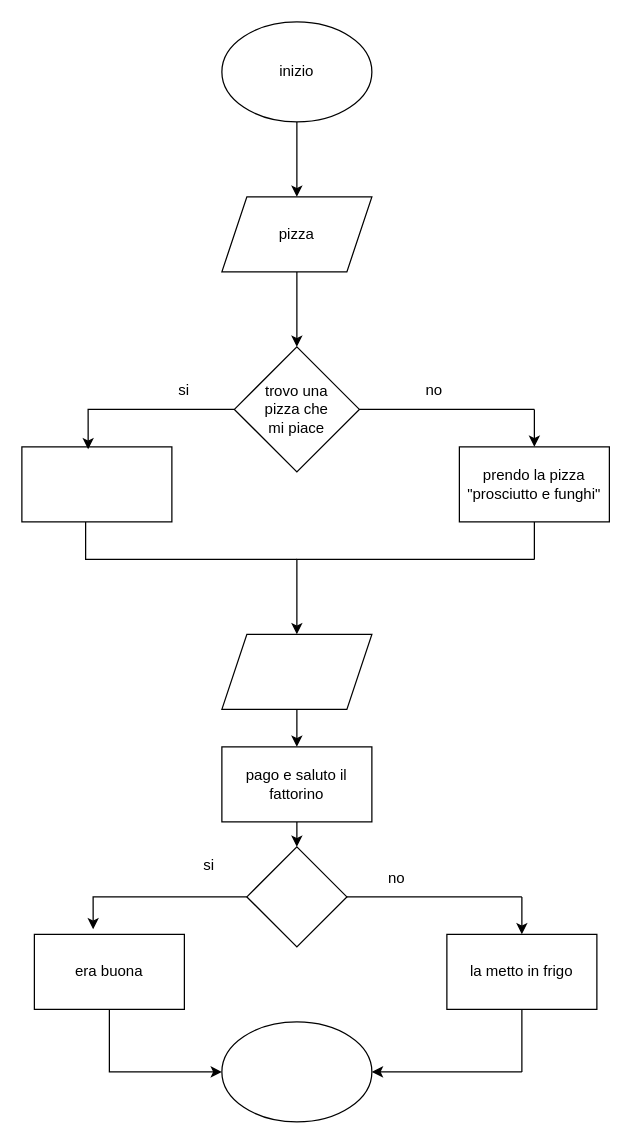
The diagram is 631 pixels wide and 1144 high, and some of its shapes have lost their labels. Here are the shapes that lost their labels. From the top down, the centre of each, then its label:
[96,484]: la ordino
[296,671]: arriva la pizza calda e fumante
[296,896]: riesco a finirla
[296,1071]: fine
